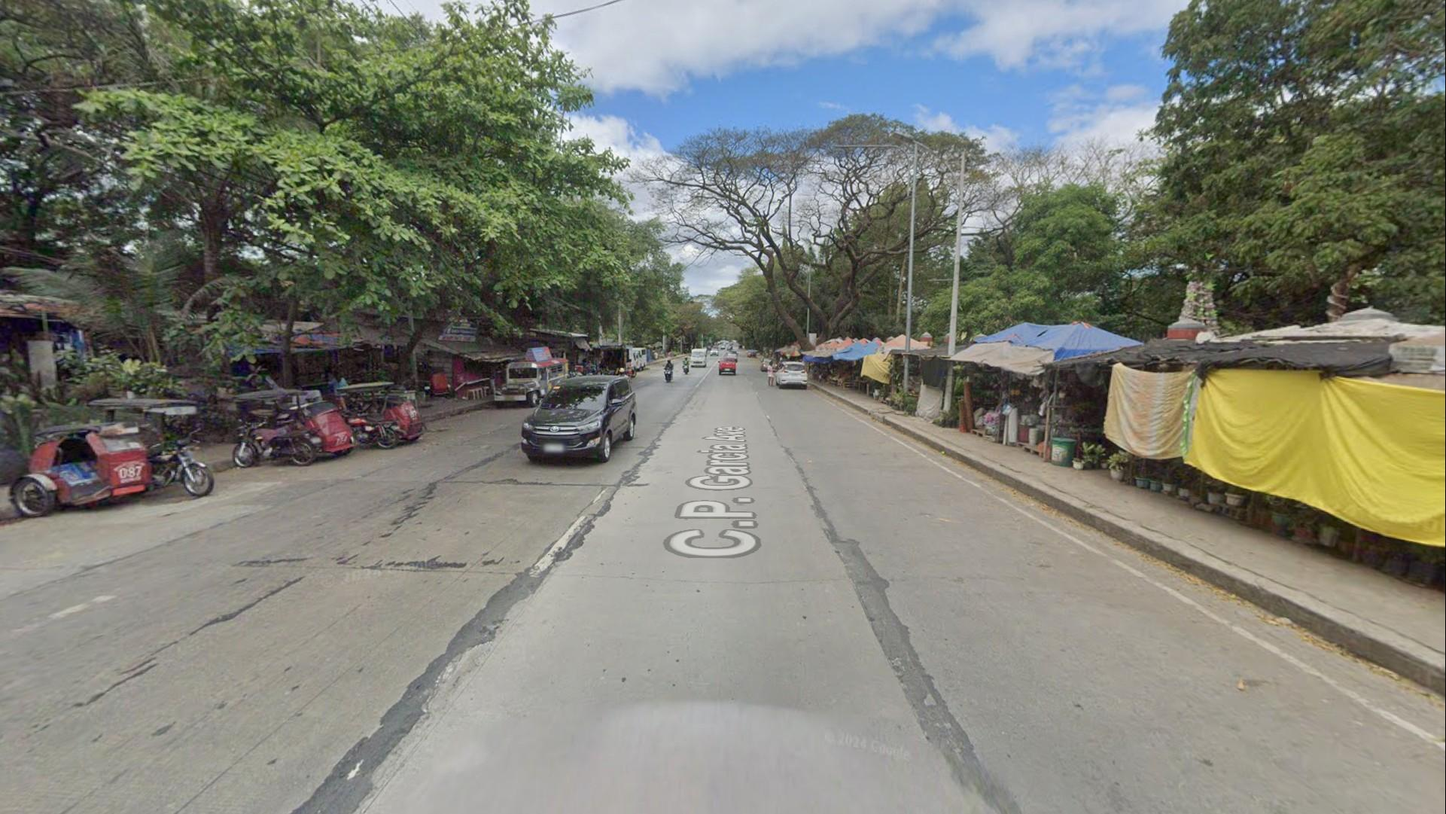pedestrian: (766, 361, 777, 388)
